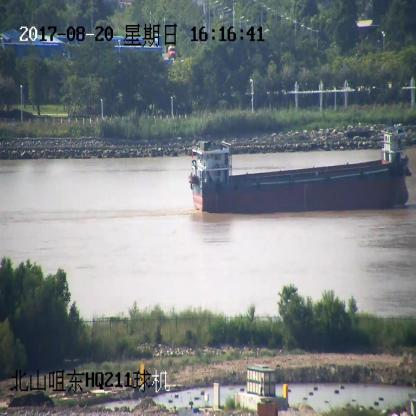Bulk Carrier: (191, 133, 410, 215)
